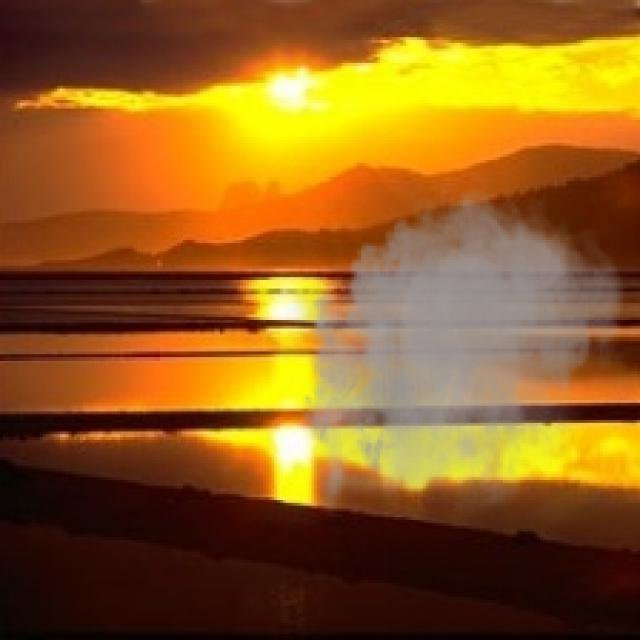Smoke: (286, 177, 634, 526)
